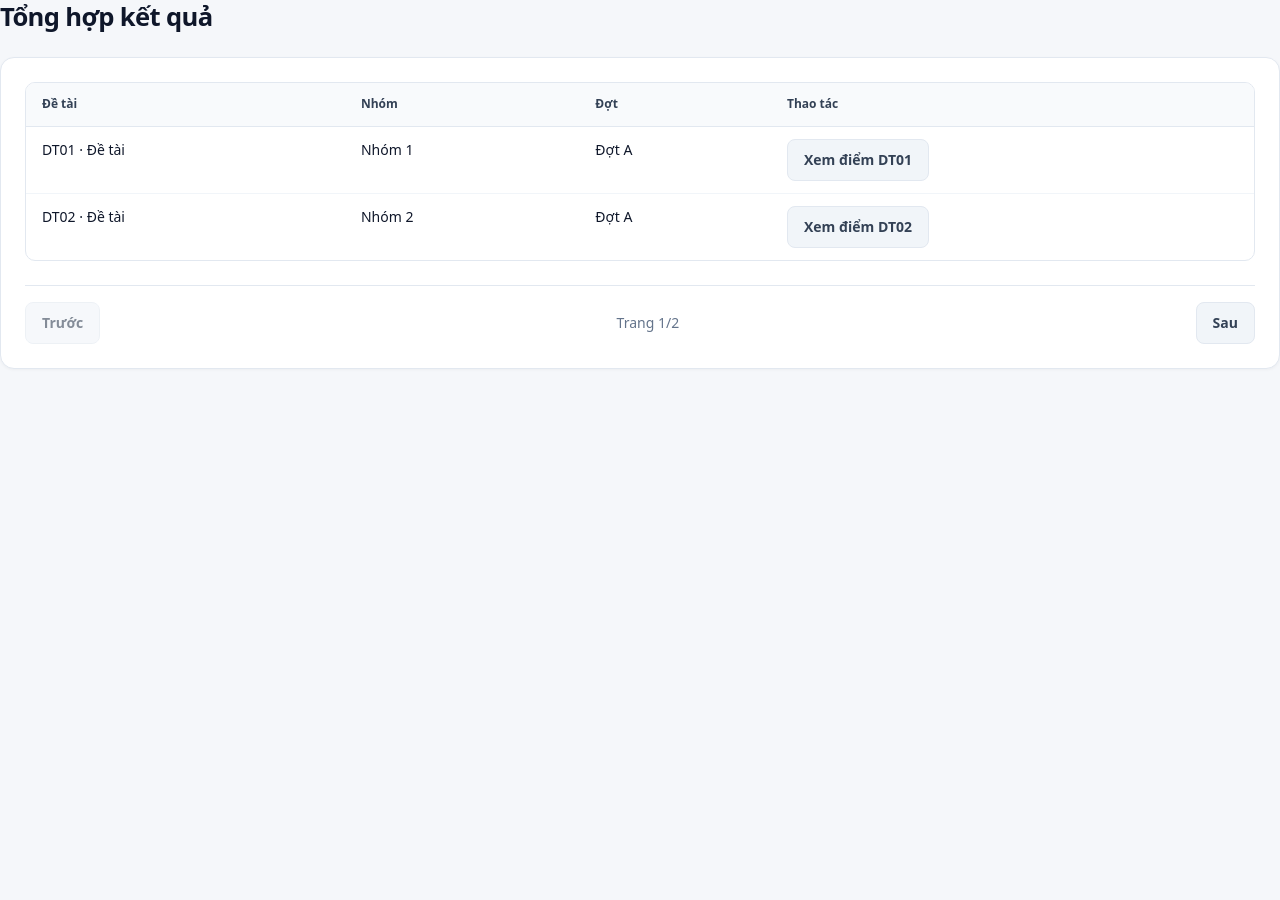
Scenario: xem điểm đã nộp trước khi chốt, phiếu nháp và chưa chấm không lộ điểm
Click the button "Xem điểm DT01": (858, 160) x1=787 y1=139 x2=929 y2=181
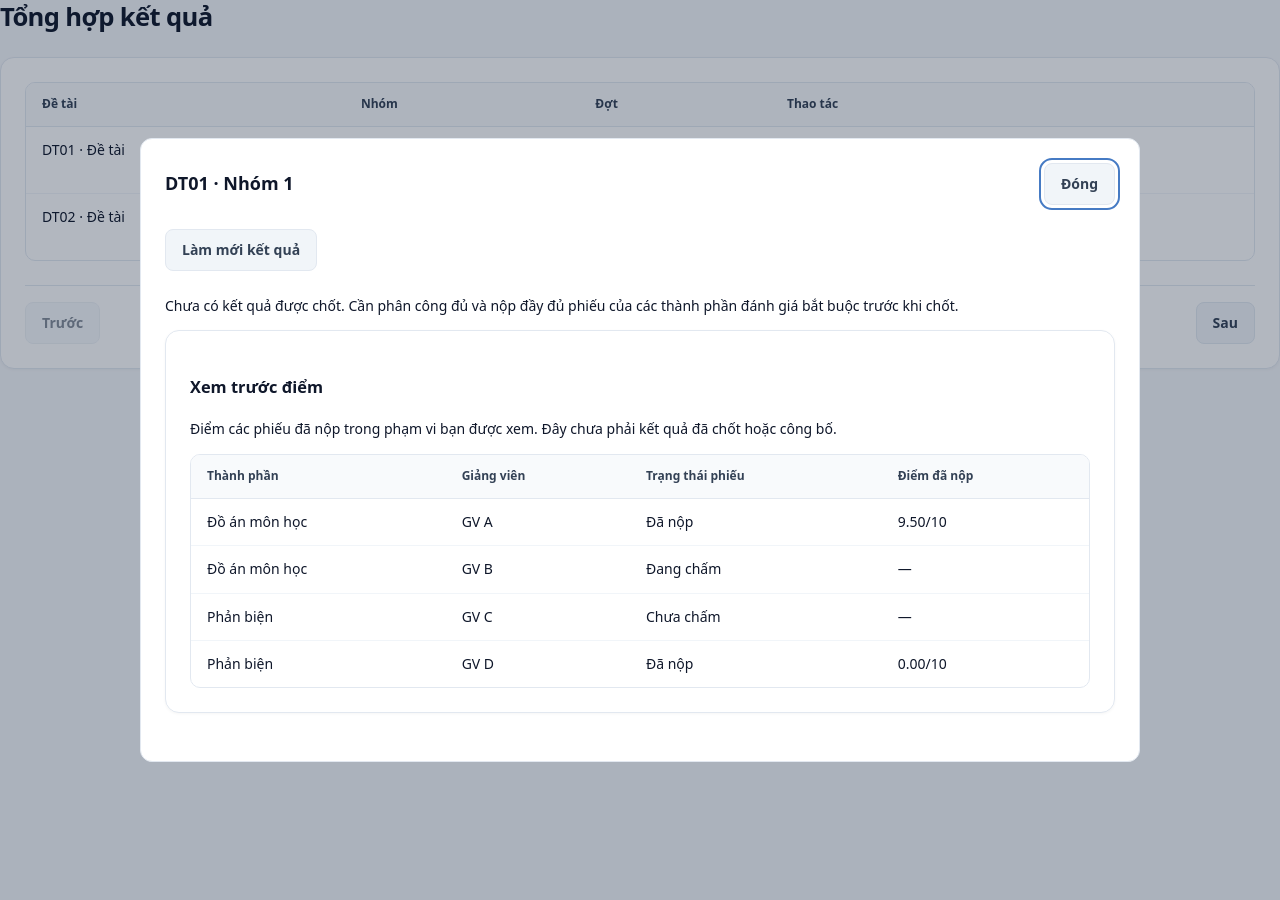
expect the text "Chưa có kết quả được chốt" is shown: met, box x1=165 y1=296 x2=958 y2=315
expect the text "9.50/10" is shown: met, box x1=882 y1=498 x2=1089 y2=546
expect the text "0.00/10" is shown: met, box x1=882 y1=640 x2=1089 y2=687
